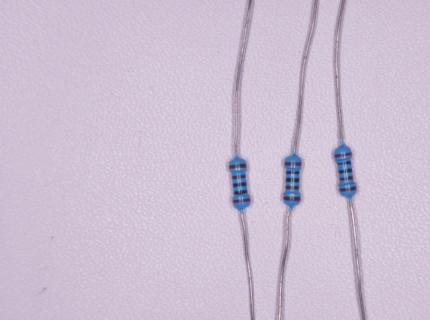Black band: (232, 182, 247, 188), (339, 168, 353, 174), (337, 160, 351, 166), (233, 190, 248, 195), (286, 178, 300, 182), (286, 171, 300, 175)
Brown band: (229, 163, 247, 169), (284, 196, 301, 201), (340, 187, 357, 192), (231, 175, 246, 180), (285, 185, 300, 190), (339, 176, 353, 181)
Red band: (232, 198, 251, 204), (334, 152, 352, 158), (284, 162, 302, 167)
